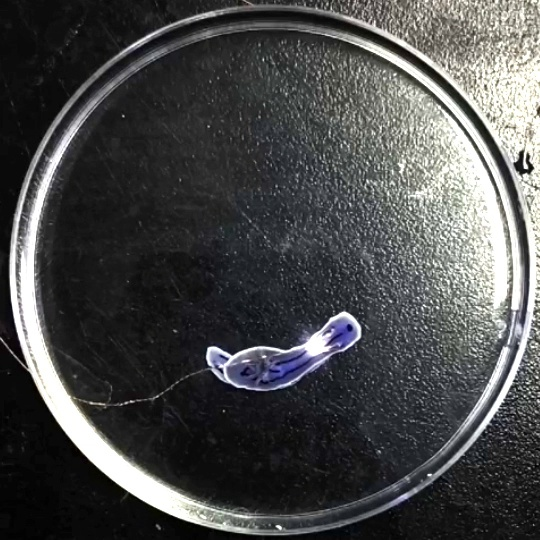sea-slug: (105, 45, 348, 374)
